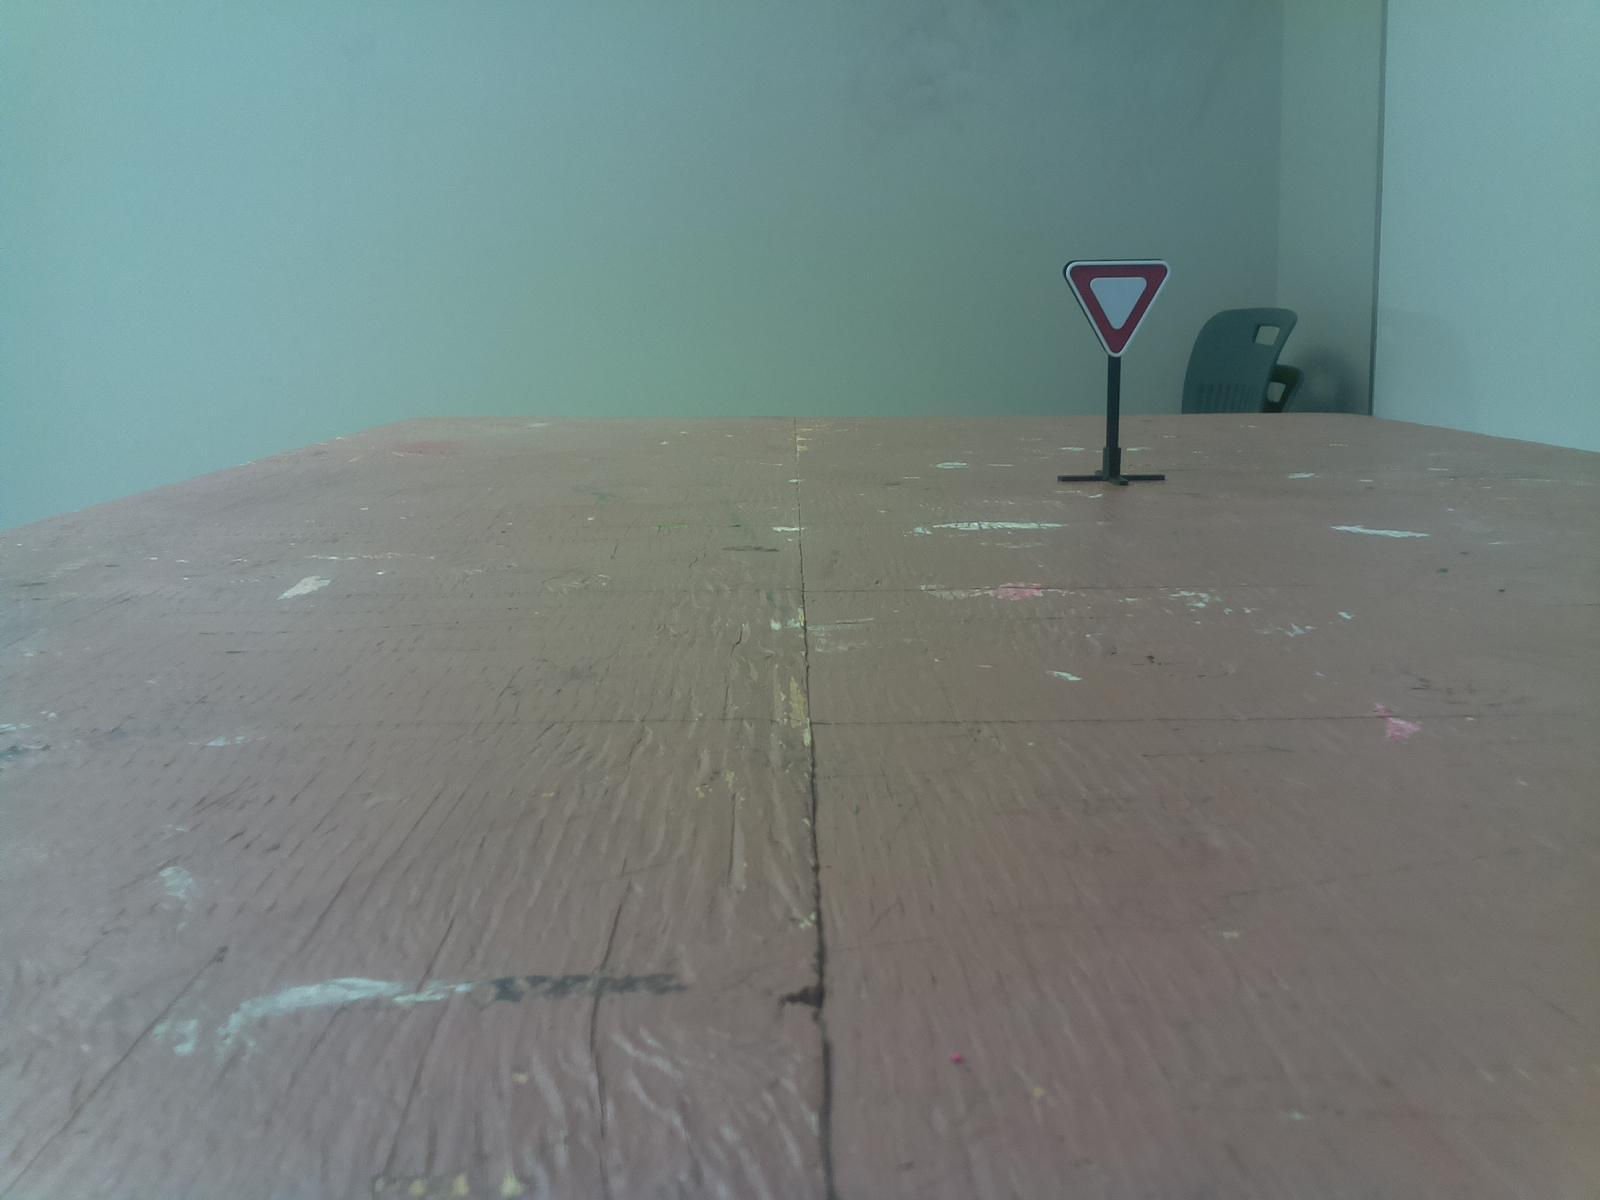sign_yield: (1048, 250, 1189, 367)
